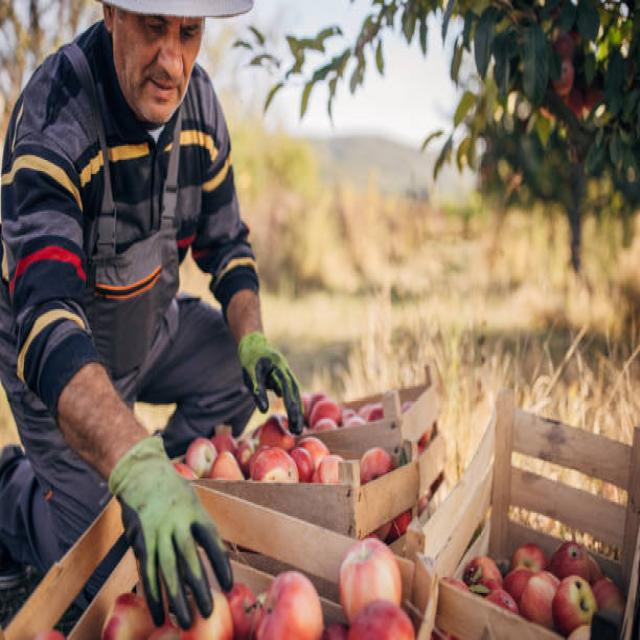Gloves: (105, 429, 237, 640), (236, 324, 308, 435)
person: (0, 0, 310, 609)
